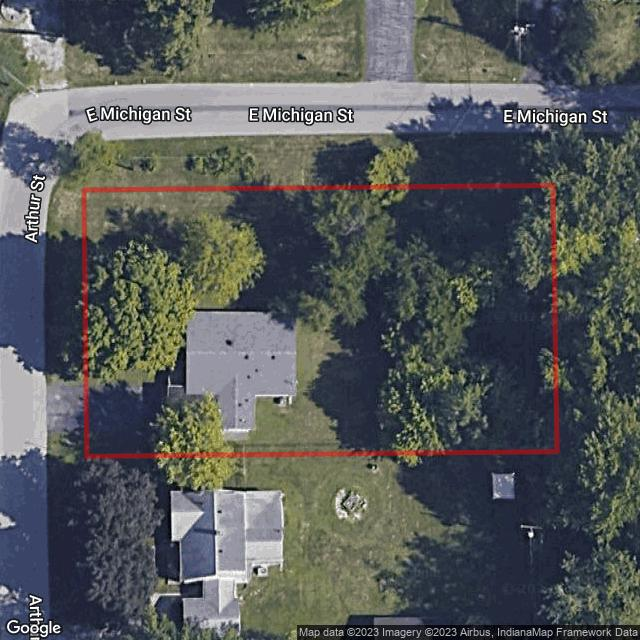Driveway: (89, 385, 165, 427)
Extra Driveway: (48, 381, 84, 431)
Extra Lawn: (45, 133, 553, 381), (47, 431, 82, 458)
House: (186, 311, 296, 431)
